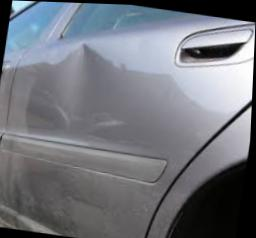Door: (14, 46, 148, 218)
